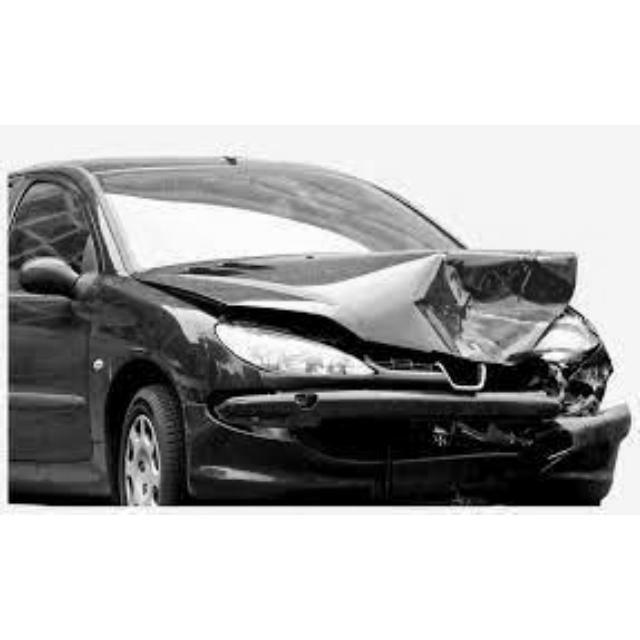bonnet-dent: (210, 246, 589, 364)
front-bumper-dent: (221, 370, 638, 468)
